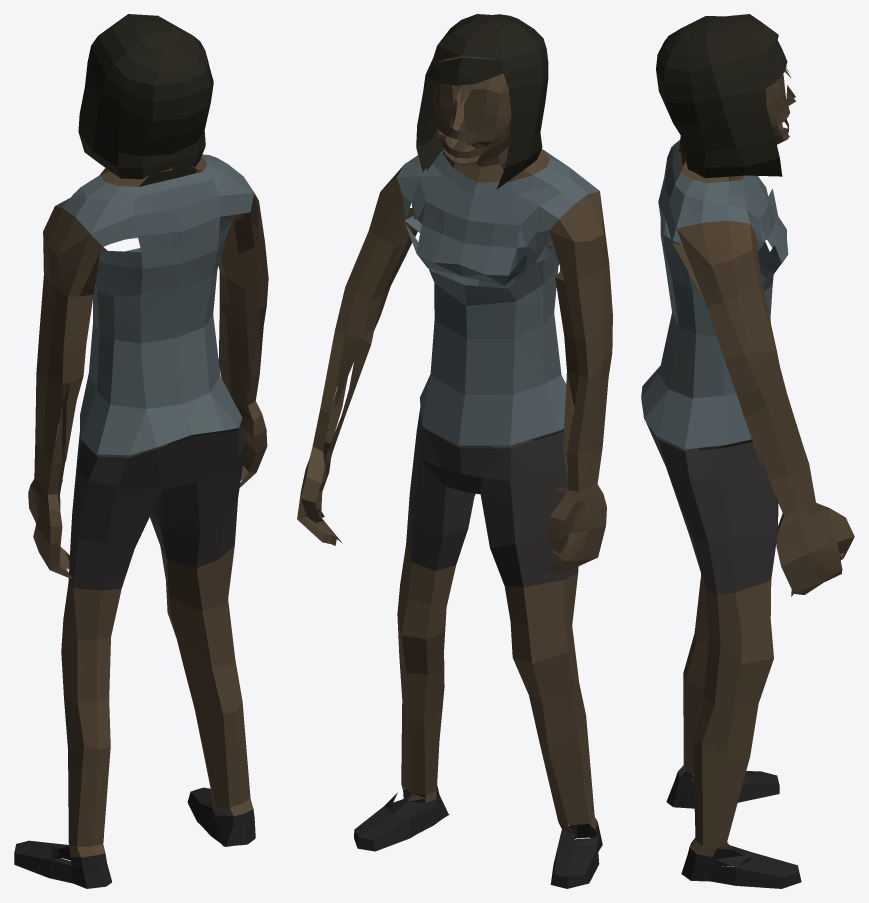
Rendered from person_5_idle.fbx.
3 views of the same model, side by side, from view 1: azimuth 30°, elevation 25°; view 2: azimuth 150°, elevation 25°; view 3: azimuth 270°, elevation 25° (orthographic).
Parts seen in each view (by area): view 1: BaseHuman.000; view 2: BaseHuman.000; view 3: BaseHuman.000.
Part boxes in pixels (<box>): BaseHuman.000: <box>14,14,268,888</box>; BaseHuman.000: <box>297,14,612,888</box>; BaseHuman.000: <box>641,14,854,888</box>.
Bounding box in the file's own units: 0.3357 × 1 × 0.2367.
